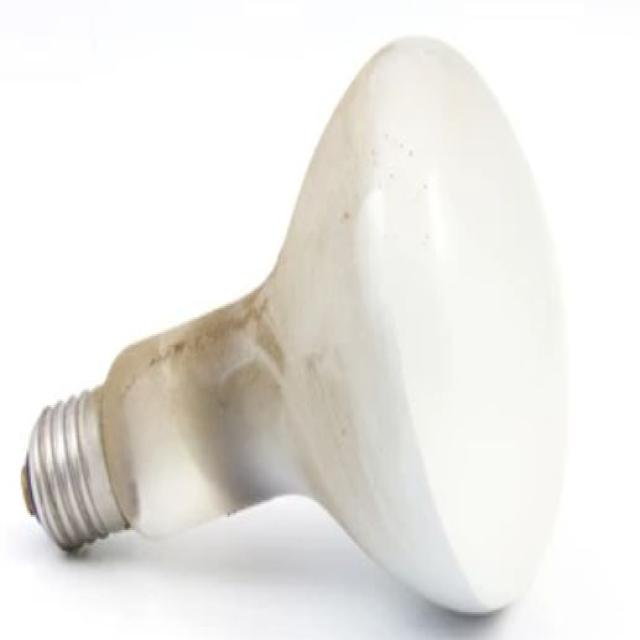electronic: (19, 32, 570, 618)
